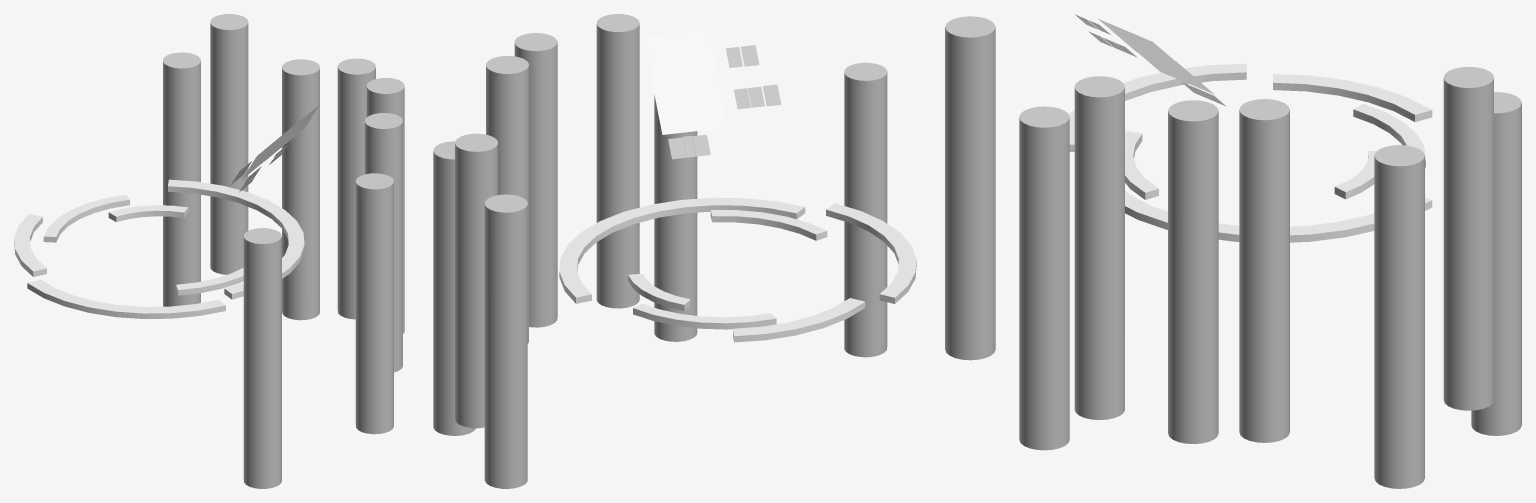
Rendered from pfb_baseCamp.fbx.
The picture shows the model from 3 angles, left to right: view 1: azimuth 30°, elevation 25°; view 2: azimuth 150°, elevation 25°; view 3: azimuth 270°, elevation 25°; orthographic projection. The views are drawn at different scales.
Parts seen in each view (by area): view 1: Camp_Tube_cylinder_6, Camp_Tube_cylinder_7, BASE_Cylinder, Camp_Tube_cylinder_2, Camp_Tube_cylinder, Camp_Tube_cylinder_1, Camp_Tube_cylinder_4, Camp_Tube_cylinder_3, Camp_Tube_cylinder_5, TMP_SubMesh__tex_icons_1_Material_; view 2: BASE_Cylinder, Camp_Tube_cylinder, Camp_Tube_cylinder_3, Camp_Tube_cylinder_7, Camp_Tube_cylinder_2, Camp_Tube_cylinder_5, Camp_Tube_cylinder_6, TMP_SubMesh__tex_icons_1_Material_, Camp_Tube_cylinder_1, Camp_Tube_cylinder_4, Resource_Text__TMP_; view 3: Camp_Tube_cylinder_6, Camp_Tube_cylinder_2, Camp_Tube_cylinder_7, Camp_Tube_cylinder_1, Camp_Tube_cylinder_5, Camp_Tube_cylinder_3, Camp_Tube_cylinder_4, BASE_Cylinder, Camp_Tube_cylinder, TMP_SubMesh__tex_icons_1_Material_, Resource_Text__TMP_.
Part boxes in pixels (left/top/right/bottom): Camp_Tube_cylinder_6: left=355, top=173, right=393, bottom=434; Camp_Tube_cylinder_7: left=243, top=228, right=281, bottom=488; BASE_Cylinder: left=14, top=179, right=304, bottom=318; Camp_Tube_cylinder_2: left=210, top=14, right=248, bottom=274; Camp_Tube_cylinder: left=163, top=52, right=200, bottom=306; Camp_Tube_cylinder_1: left=282, top=59, right=319, bottom=320; Camp_Tube_cylinder_4: left=337, top=58, right=375, bottom=319; Camp_Tube_cylinder_3: left=365, top=113, right=402, bottom=372; Camp_Tube_cylinder_5: left=366, top=78, right=404, bottom=333; TMP_SubMesh__tex_icons_1_Material_: left=242, top=104, right=319, bottom=179; BASE_Cylinder: left=559, top=197, right=916, bottom=342; Camp_Tube_cylinder: left=484, top=194, right=527, bottom=488; Camp_Tube_cylinder_3: left=596, top=14, right=639, bottom=308; Camp_Tube_cylinder_7: left=844, top=62, right=887, bottom=357; Camp_Tube_cylinder_2: left=455, top=133, right=497, bottom=428; Camp_Tube_cylinder_5: left=514, top=33, right=557, bottom=327; Camp_Tube_cylinder_6: left=654, top=95, right=697, bottom=341; TMP_SubMesh__tex_icons_1_Material_: left=644, top=30, right=727, bottom=134; Camp_Tube_cylinder_1: left=433, top=141, right=475, bottom=435; Camp_Tube_cylinder_4: left=486, top=56, right=528, bottom=343; Resource_Text__TMP_: left=668, top=45, right=781, bottom=159; Camp_Tube_cylinder_6: left=1019, top=106, right=1069, bottom=450; Camp_Tube_cylinder_2: left=1443, top=66, right=1493, bottom=410; Camp_Tube_cylinder_7: left=945, top=16, right=995, bottom=360; Camp_Tube_cylinder_1: left=1374, top=145, right=1424, bottom=488; Camp_Tube_cylinder_5: left=1168, top=100, right=1218, bottom=443; Camp_Tube_cylinder_3: left=1074, top=76, right=1124, bottom=419; Camp_Tube_cylinder_4: left=1239, top=99, right=1289, bottom=442; BASE_Cylinder: left=1069, top=63, right=1432, bottom=242; Camp_Tube_cylinder: left=1471, top=92, right=1521, bottom=435; TMP_SubMesh__tex_icons_1_Material_: left=1098, top=19, right=1214, bottom=94; Resource_Text__TMP_: left=1075, top=14, right=1226, bottom=106.
Bounding box in the file's own units: 780 × 620 × 833.
